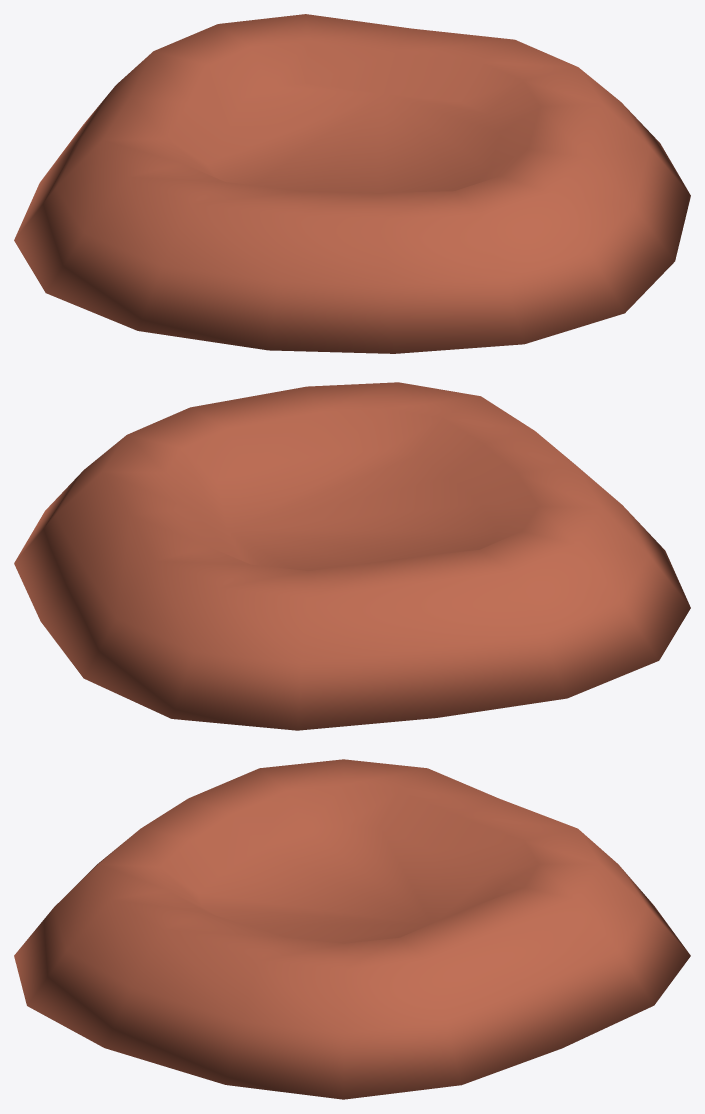
Rendered from Tierra.fbx.
The picture shows the model from 3 angles, top to bottom: view 1: azimuth 30°, elevation 25°; view 2: azimuth 150°, elevation 25°; view 3: azimuth 270°, elevation 25°; orthographic projection. The views are drawn at different scales.
Parts seen in each view (by area): view 1: Tierra; view 2: Tierra; view 3: Tierra.
Boxes of the visible parts, bbox=[...] form: Tierra: bbox=[14, 14, 690, 353]; Tierra: bbox=[14, 382, 690, 730]; Tierra: bbox=[14, 759, 690, 1099].
Size of the model in its own units: 414 by 61.82 by 413.
